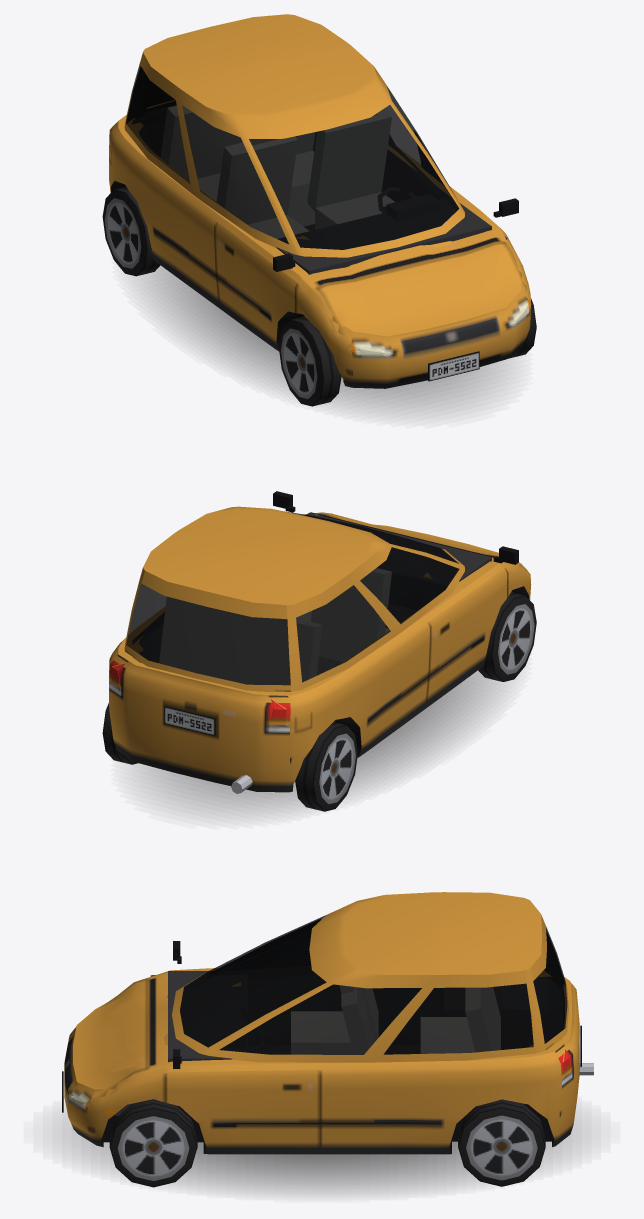
The model's file is pudim.glb.
The picture shows the model from 3 angles, top to bottom: view 1: azimuth 30°, elevation 25°; view 2: azimuth 150°, elevation 25°; view 3: azimuth 270°, elevation 25°; orthographic projection.
Parts seen in each view (by area): view 1: Carroceria, Interior, Capo_malha, Sombra, Porta_D_malha, Roda_DD, Roda_TD, Tampa_malha, Porta_E_malha, Farol; view 2: Carroceria, Tampa_malha, Interior, Sombra, Porta_D_malha, Roda_TD, Roda_DD, Capo_malha, Lanterna, Roda_TE; view 3: Carroceria, Interior, Porta_E_malha, Sombra, Roda_DE, Capo_malha, Roda_TE, Tampa_malha, Porta_D_malha.
Boxes of the visible parts, x1=… form: Carroceria: x1=109, y1=14, x2=531, y2=388; Interior: x1=132, y1=105, x2=507, y2=274; Capo_malha: x1=316, y1=242, x2=526, y2=339; Sombra: x1=137, y1=266, x2=508, y2=414; Porta_D_malha: x1=214, y1=147, x2=298, y2=341; Roda_DD: x1=278, y1=316, x2=341, y2=406; Roda_TD: x1=102, y1=186, x2=160, y2=276; Tampa_malha: x1=127, y1=67, x2=175, y2=122; Porta_E_malha: x1=397, y1=111, x2=518, y2=235; Farol: x1=348, y1=301, x2=530, y2=357; Carroceria: x1=109, y1=506, x2=531, y2=793; Tampa_malha: x1=123, y1=571, x2=290, y2=771; Interior: x1=132, y1=512, x2=491, y2=684; Sombra: x1=134, y1=671, x2=503, y2=816; Porta_D_malha: x1=397, y1=546, x2=518, y2=699; Roda_TD: x1=295, y1=722, x2=357, y2=811; Roda_DD: x1=478, y1=592, x2=536, y2=681; Capo_malha: x1=316, y1=512, x2=526, y2=571; Lanterna: x1=109, y1=662, x2=298, y2=731; Roda_TE: x1=102, y1=703, x2=137, y2=764; Carroceria: x1=62, y1=892, x2=593, y2=1154; Interior: x1=114, y1=938, x2=564, y2=1115; Porta_E_malha: x1=165, y1=989, x2=320, y2=1145; Sombra: x1=62, y1=1119, x2=581, y2=1193; Roda_DE: x1=109, y1=1099, x2=197, y2=1187; Capo_malha: x1=78, y1=978, x2=147, y2=1097; Roda_TE: x1=458, y1=1099, x2=545, y2=1186; Tampa_malha: x1=530, y1=914, x2=581, y2=1115; Porta_D_malha: x1=173, y1=919, x2=320, y2=974.
Bounding box in the file's own units: 2.38 × 1.58 × 4.28.
12 materials, 6 textured.
